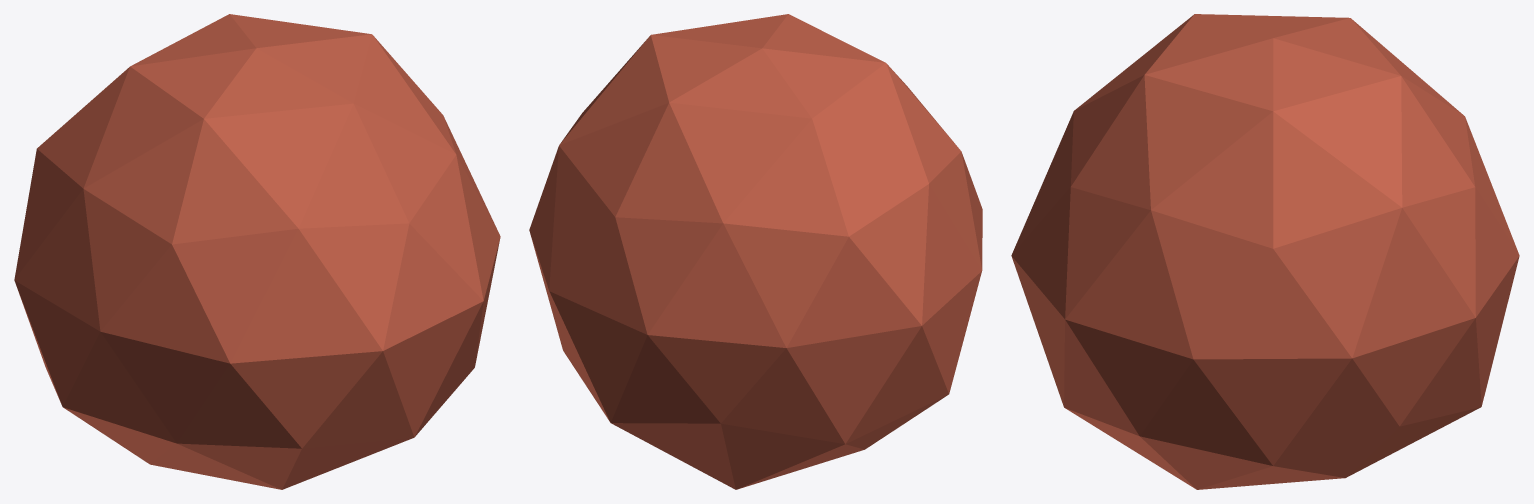
Rendered from Planet_Mars.glb.
The picture shows the model from 3 angles, left to right: view 1: azimuth 30°, elevation 25°; view 2: azimuth 150°, elevation 25°; view 3: azimuth 270°, elevation 25°; orthographic projection. The views are drawn at different scales.
Parts seen in each view (by area): view 1: Planet_Mars; view 2: Planet_Mars; view 3: Planet_Mars.
Boxes of the visible parts, x1=… form: Planet_Mars: x1=14, y1=14, x2=500, y2=489; Planet_Mars: x1=529, y1=14, x2=982, y2=489; Planet_Mars: x1=1011, y1=14, x2=1519, y2=489.
Bounding box in the file's own units: 1.97 × 1.94 × 2.05.
